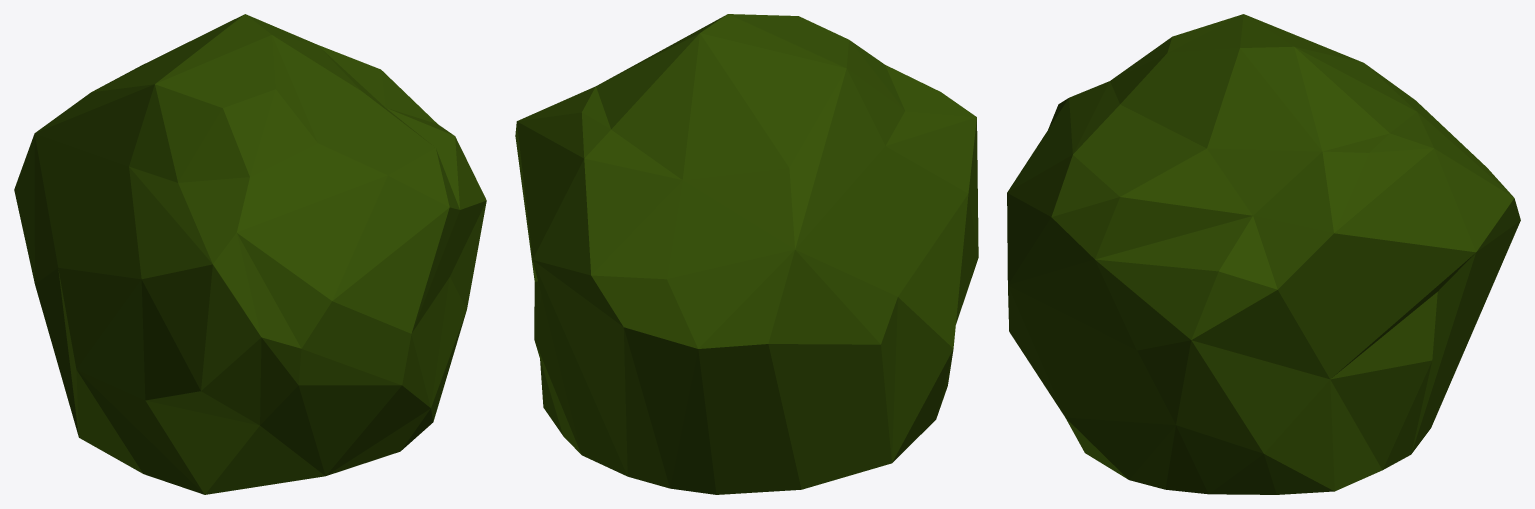
File: Bush.001.fbx
3 renders of one model, left to right at view 1: azimuth 30°, elevation 25°; view 2: azimuth 150°, elevation 25°; view 3: azimuth 270°, elevation 25°, orthographic. The views are drawn at different scales.
Visible parts, largest first — view 1: Bush.001; view 2: Bush.001; view 3: Bush.001.
Boxes of the visible parts, x1,y1,x2,y2 form: Bush.001: (14,14,486,494); Bush.001: (515,14,978,494); Bush.001: (1007,14,1520,494).
Bounding box in the file's own units: 0.7384 × 0.668 × 0.8168.
